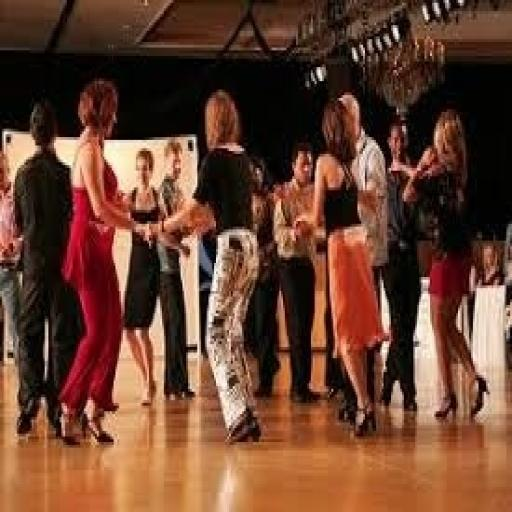dancing: (142, 86, 266, 448), (366, 88, 494, 419), (313, 73, 429, 437), (56, 76, 153, 450)
